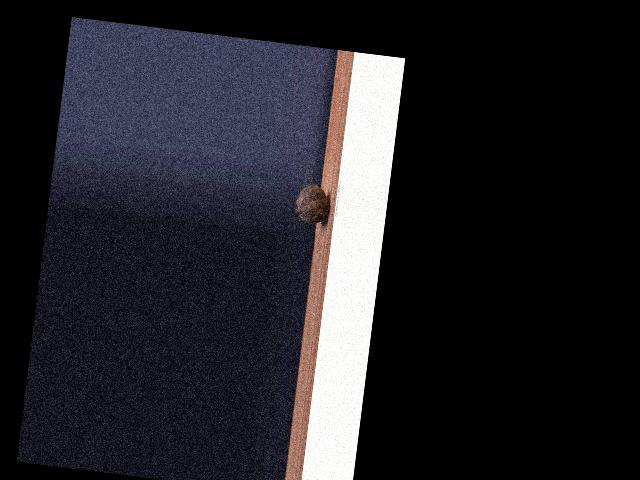beet: (292, 182, 331, 237)
